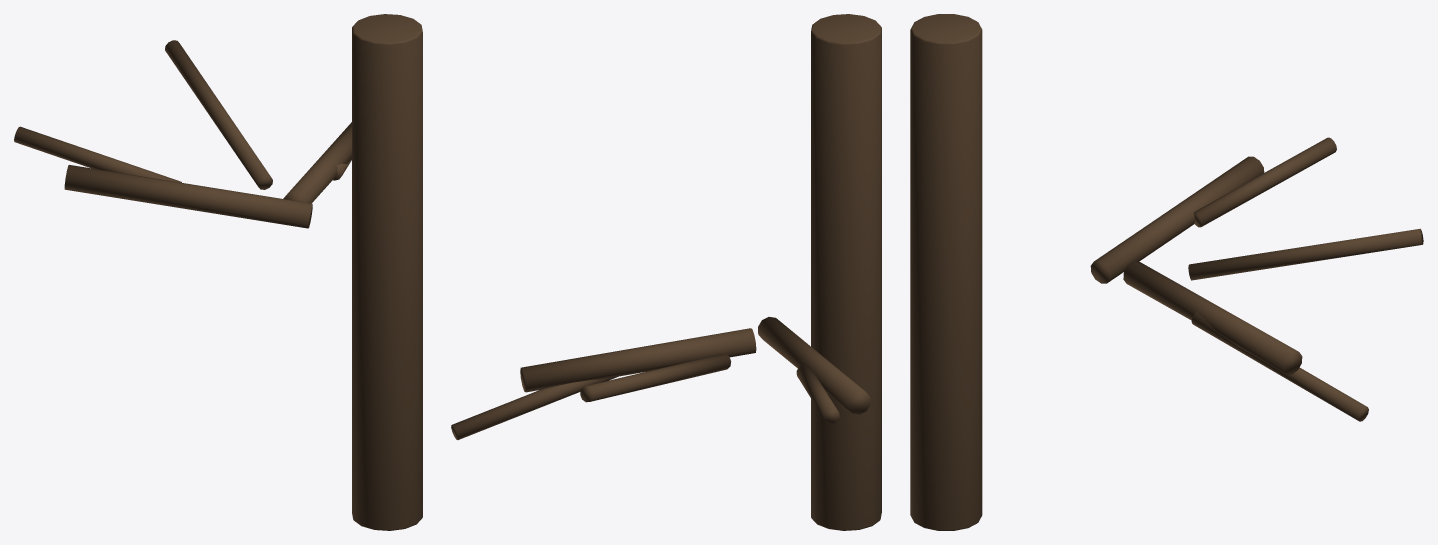
File: dead_tree.glb
3 views of the same model, side by side, from view 1: azimuth 30°, elevation 25°; view 2: azimuth 150°, elevation 25°; view 3: azimuth 270°, elevation 25° (orthographic).
Parts seen in each view (by area): view 1: TreeTrunk, DeadBranch0, DeadBranch4, DeadBranch2, DeadBranch1; view 2: TreeTrunk, DeadBranch1, DeadBranch0, DeadBranch4, DeadBranch3, DeadBranch2; view 3: TreeTrunk, DeadBranch1, DeadBranch0, DeadBranch4, DeadBranch2, DeadBranch3.
Boxes of the visible parts, x1,y1,x2,y2 form: TreeTrunk: (352, 14, 422, 530); DeadBranch0: (64, 165, 312, 228); DeadBranch4: (165, 40, 272, 189); DeadBranch2: (14, 126, 181, 182); DeadBranch1: (283, 122, 351, 203); TreeTrunk: (811, 14, 881, 530); DeadBranch1: (520, 328, 756, 392); DeadBranch0: (758, 317, 870, 414); DeadBranch4: (580, 353, 731, 402); DeadBranch3: (451, 376, 617, 439); DeadBranch2: (796, 364, 839, 423); TreeTrunk: (910, 14, 982, 530); DeadBranch1: (1123, 261, 1302, 374); DeadBranch0: (1090, 156, 1264, 283); DeadBranch4: (1188, 228, 1423, 280); DeadBranch2: (1193, 137, 1336, 227); DeadBranch3: (1191, 311, 1368, 421).
Size of the model in its own units: 3.35 by 4.2 by 4.
